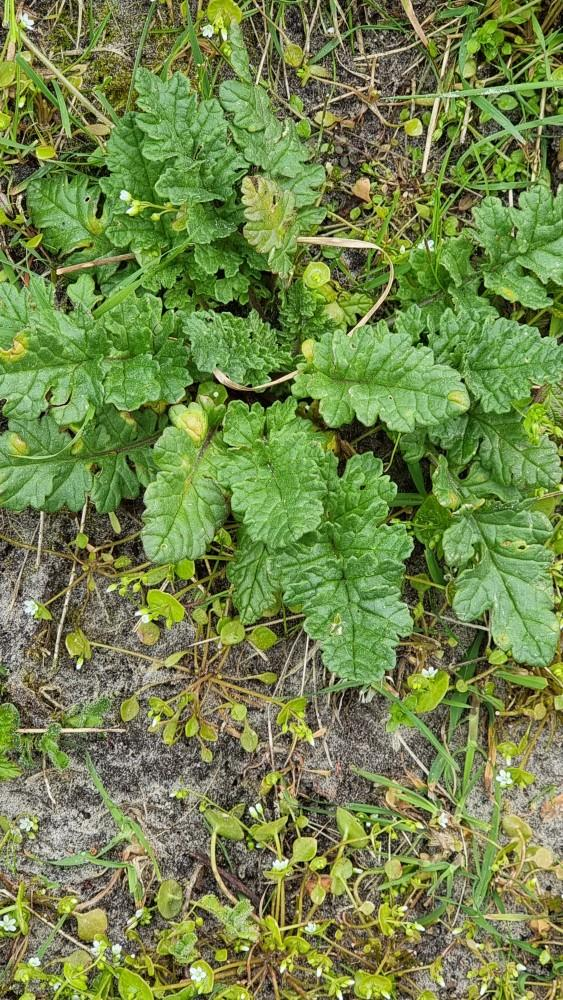Jacobaea vulgaris: (0, 61, 563, 689)
